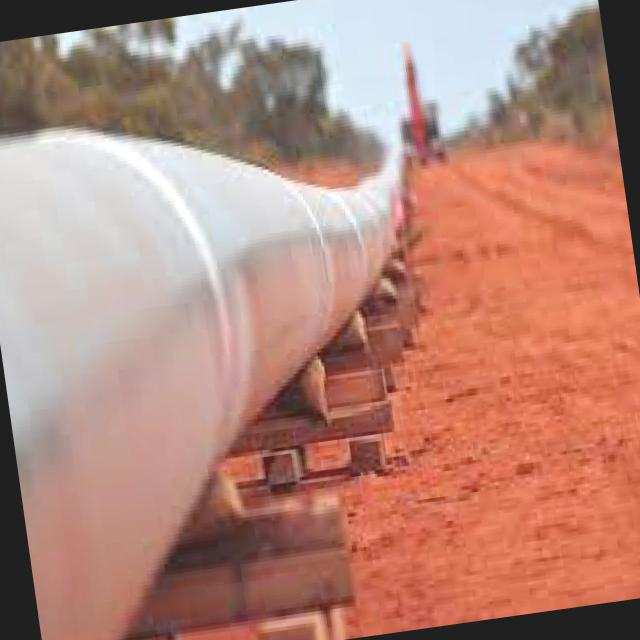gas: (0, 129, 400, 640)
